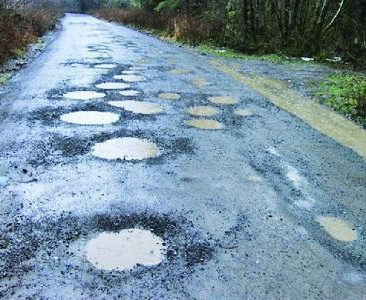pothole: (83, 213, 179, 275), (88, 134, 165, 162), (315, 210, 361, 241), (55, 108, 122, 124), (181, 114, 227, 129), (62, 87, 108, 100), (93, 79, 133, 90), (186, 102, 219, 115), (207, 92, 241, 103), (112, 72, 148, 81), (155, 90, 183, 100), (230, 106, 254, 116), (92, 60, 117, 69)
